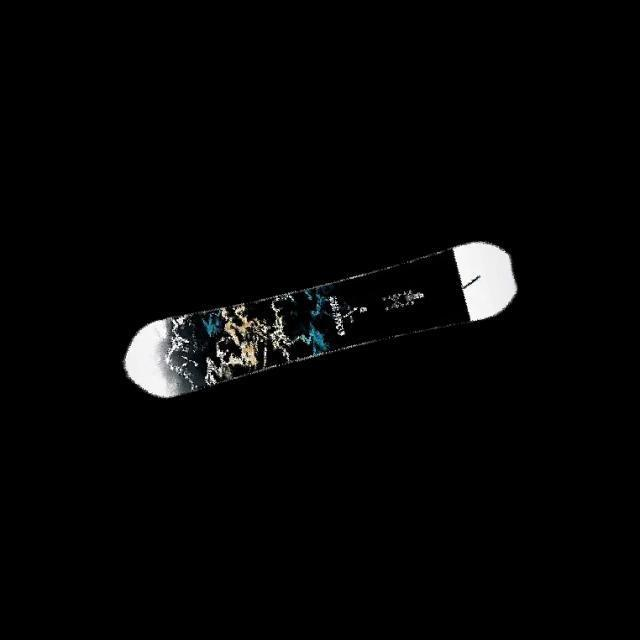Snowboard: (123, 239, 518, 399)
